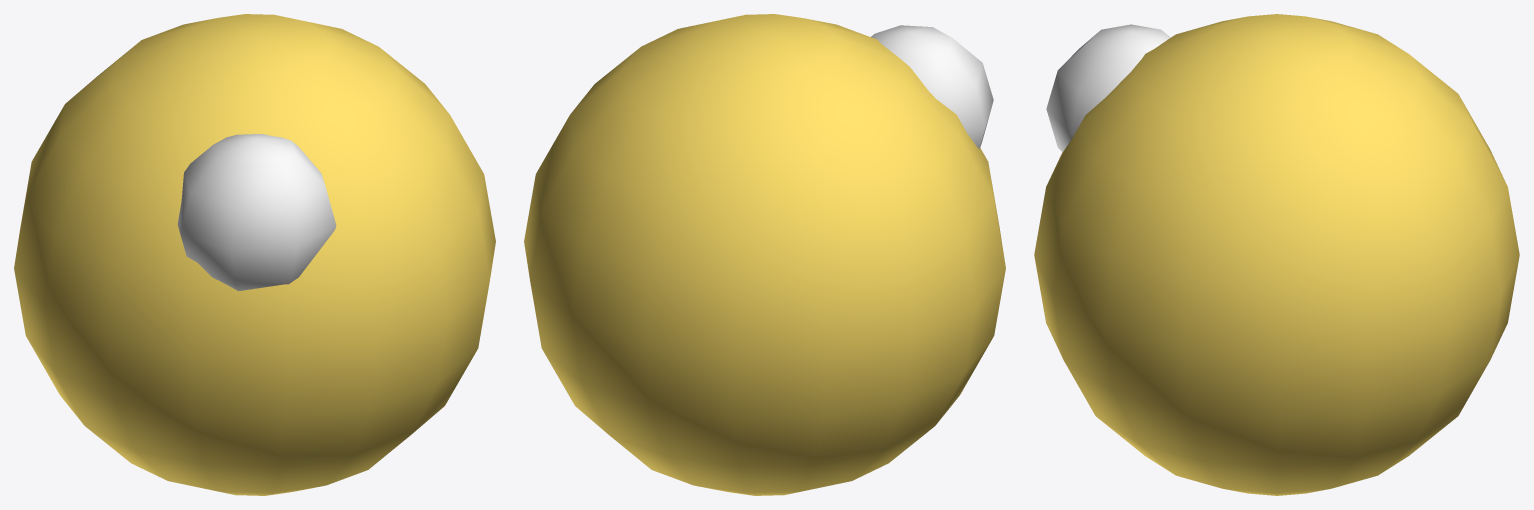
Rendered from Bullet_Ball.obj.
3 views of the same model, side by side, from view 1: azimuth 30°, elevation 25°; view 2: azimuth 150°, elevation 25°; view 3: azimuth 270°, elevation 25° (orthographic).
Parts seen in each view (by area): view 1: Bullet_Ball; view 2: Bullet_Ball; view 3: Bullet_Ball.
Boxes of the visible parts, x1=… form: Bullet_Ball: x1=14, y1=14, x2=495, y2=495; Bullet_Ball: x1=524, y1=14, x2=1005, y2=495; Bullet_Ball: x1=1034, y1=14, x2=1519, y2=495.
Bounding box in the file's own units: 0.2 × 0.2 × 0.2.
1 material, 1 textured.
